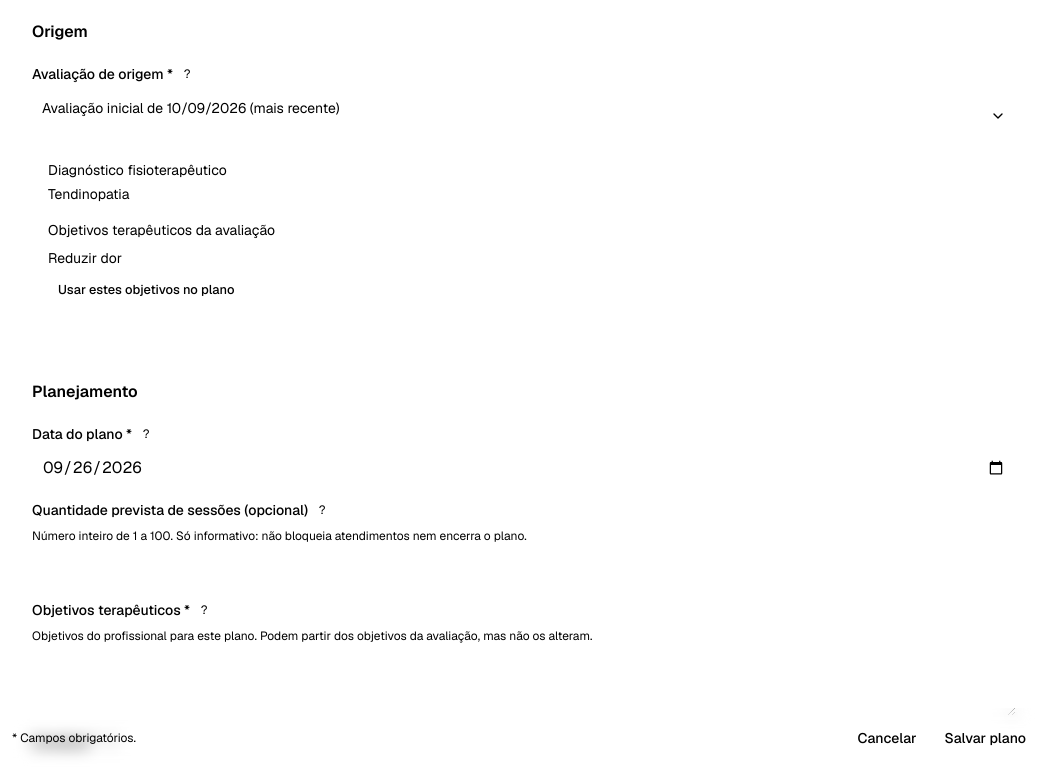
Test: PlanForm — criação › mostra diagnóstico e objetivos da avaliação escolhida e copia os objetivos só sob demanda
The width and height of the screenshot is (1048, 768).
Expected: the element named "Referência da avaliação" shows "Tendinopatia", [48,185,129,203]
Expected: the text box labelled "Objetivos terapêuticos *" is empty, [32,652,1016,716]
Click the button "Usar estes objetivos no plano".
click(146, 290)  # box [48,276,244,304]
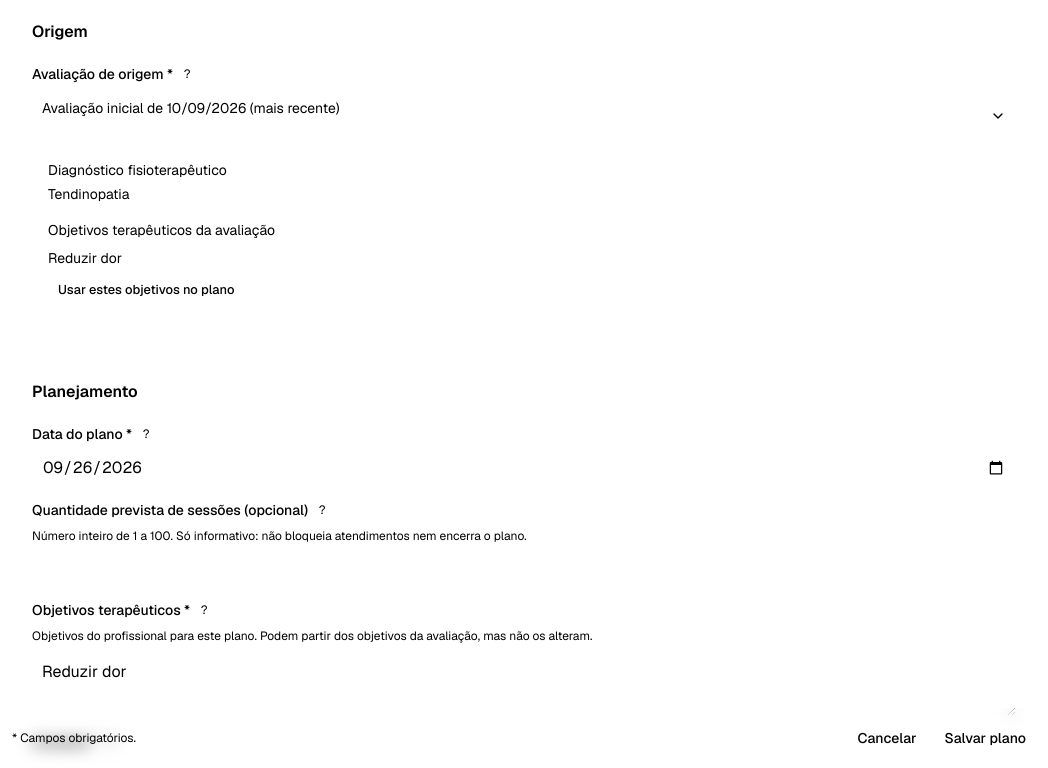
Expected: the text box labelled "Objetivos terapêuticos *" holds "Reduzir dor", [32,652,1016,716]
Select "Avaliação inicial de 01/08/2026" in the dropdown labelled "Avaliação de origem *" at (524,108), box [32,92,1016,124]
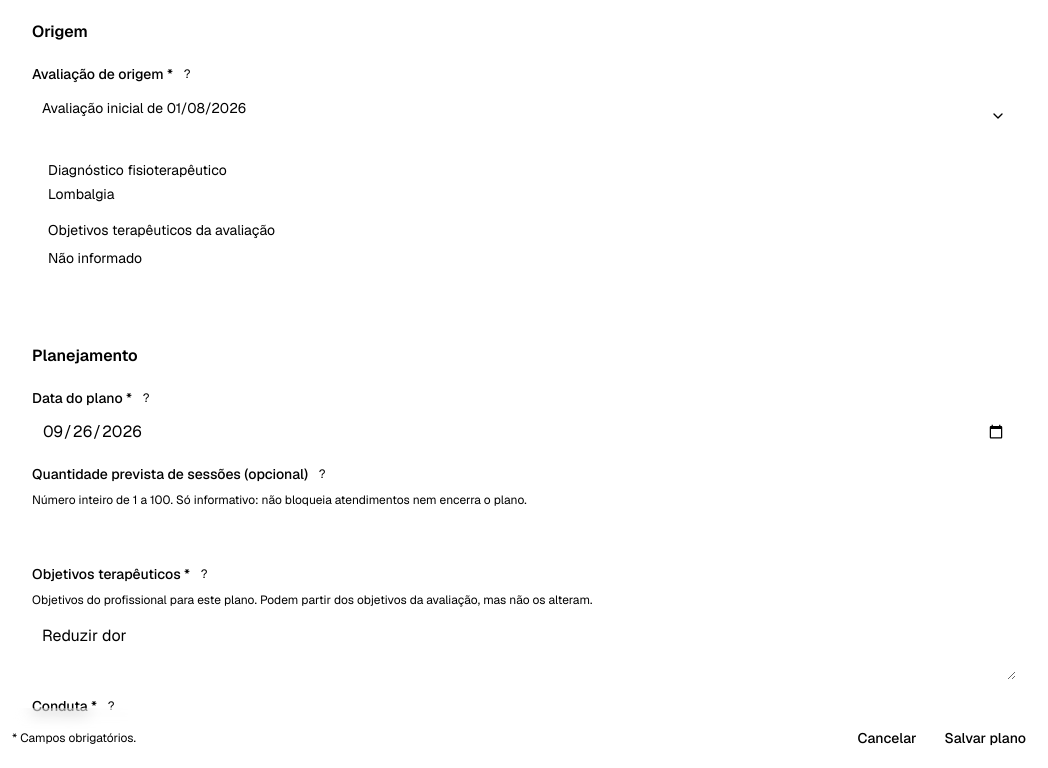
Expected: the text box labelled "Objetivos terapêuticos *" holds "Reduzir dor", [32,616,1016,680]
Expected: the text "Lombalgia" is shown, [48,185,114,203]
Expected: the button "Usar estes objetivos no plano" is gone
